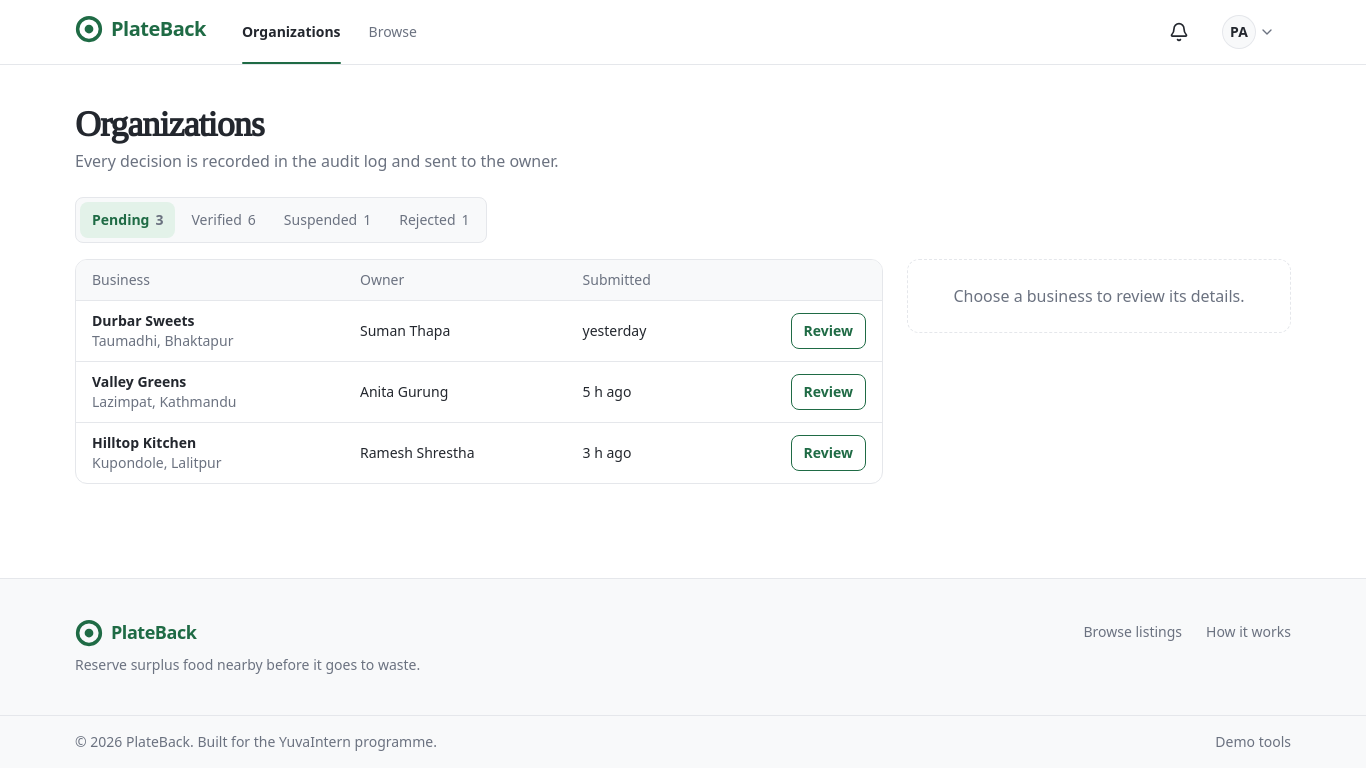
it: AdminOrganizationsPage › verifies a pending business (US6)
The width and height of the screenshot is (1366, 768).
Expected: the heading "Organizations" is shown, [75,105,264,145]
Click the button with aria-label "Review Hilltop Kitchen".
click(828, 453)  # box [790,435,866,471]
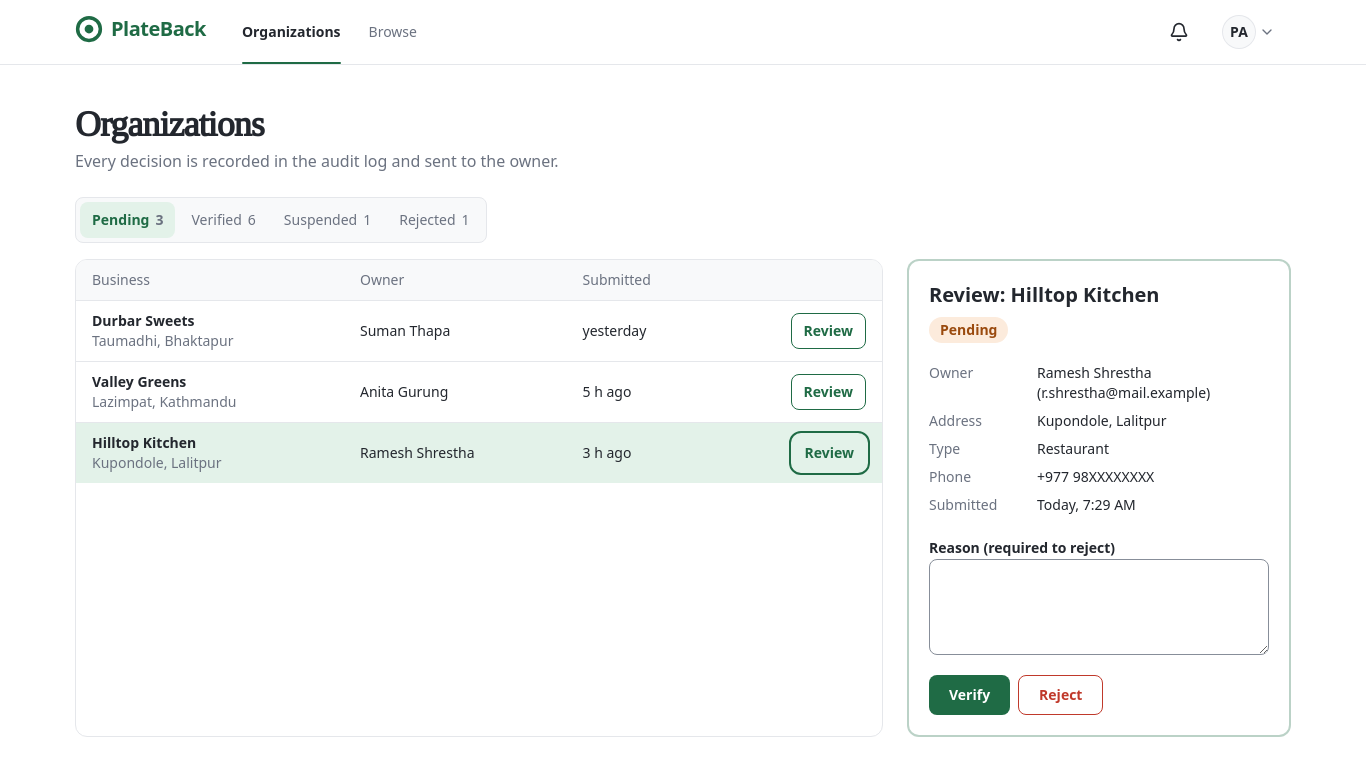
Click the button "Verify".
click(970, 695)  # box [929,675,1010,715]
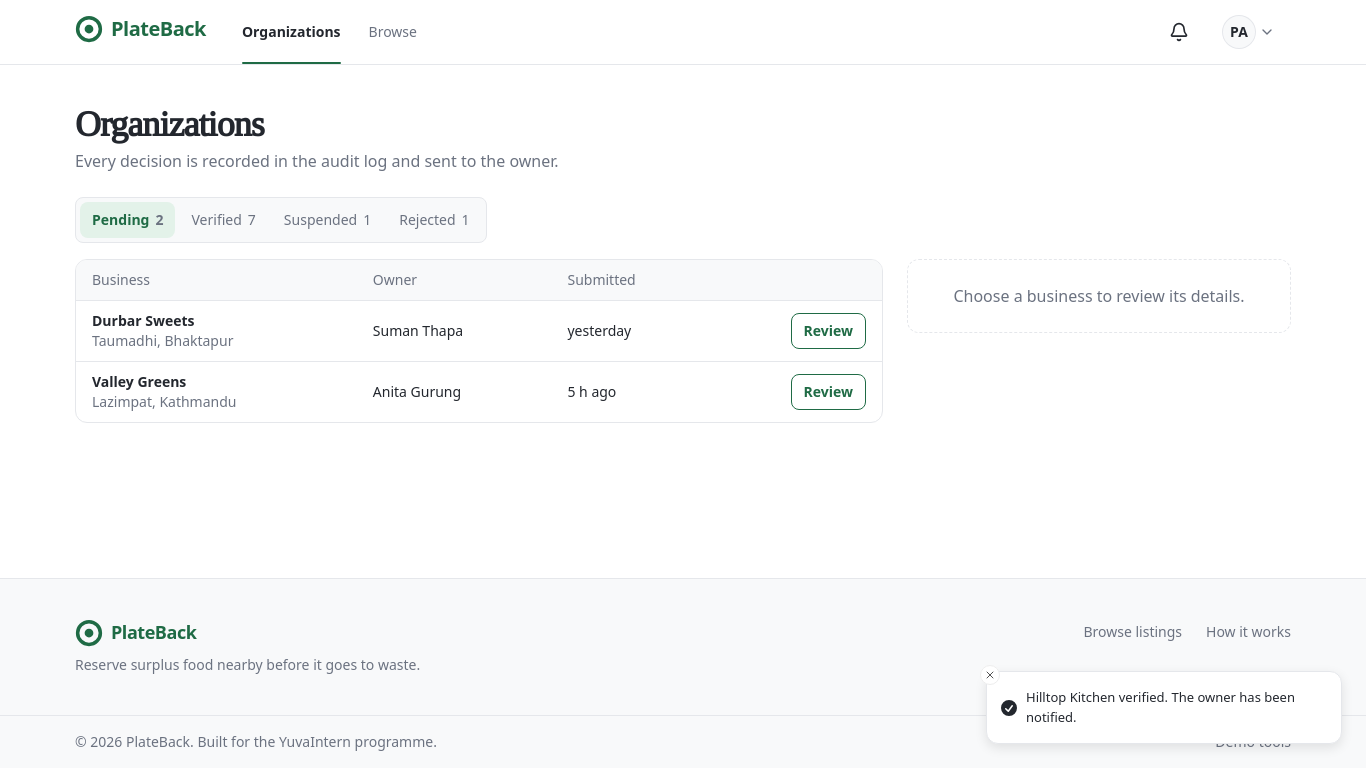
Expected: the text "Hilltop Kitchen verified. The owner has been notified." is shown, [1026,688,1325,727]
